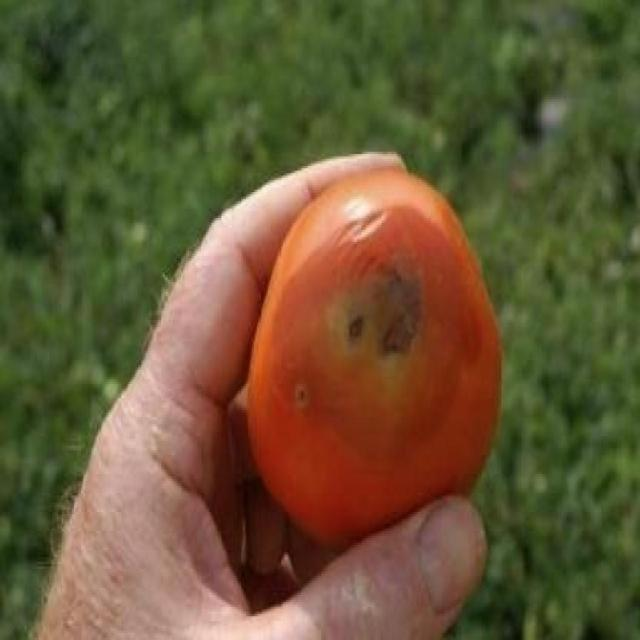Blossom End Rot Fruit: (15, 22, 249, 262)
